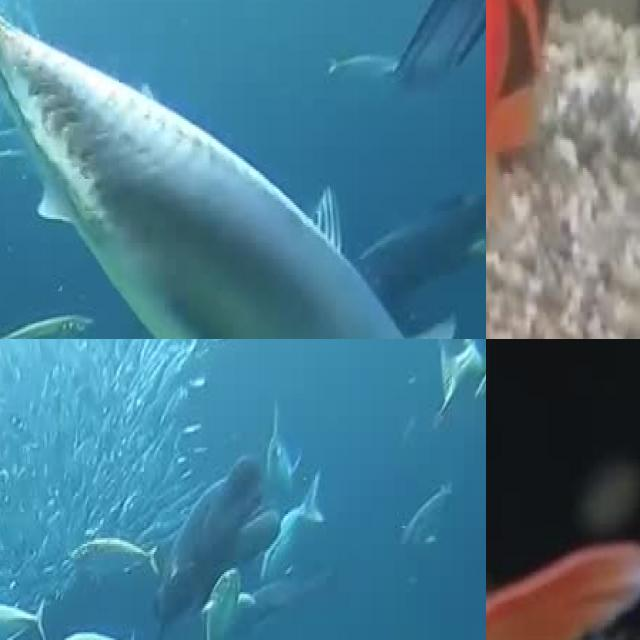fish: (0, 0, 486, 339), (0, 592, 48, 640)
